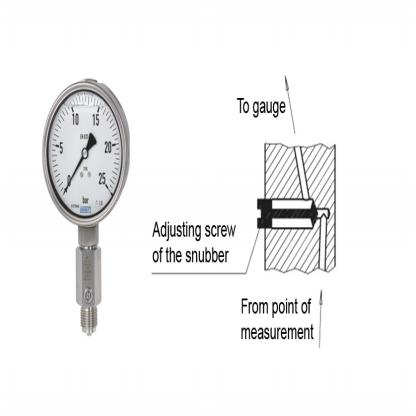needle: (65, 155, 84, 191)
